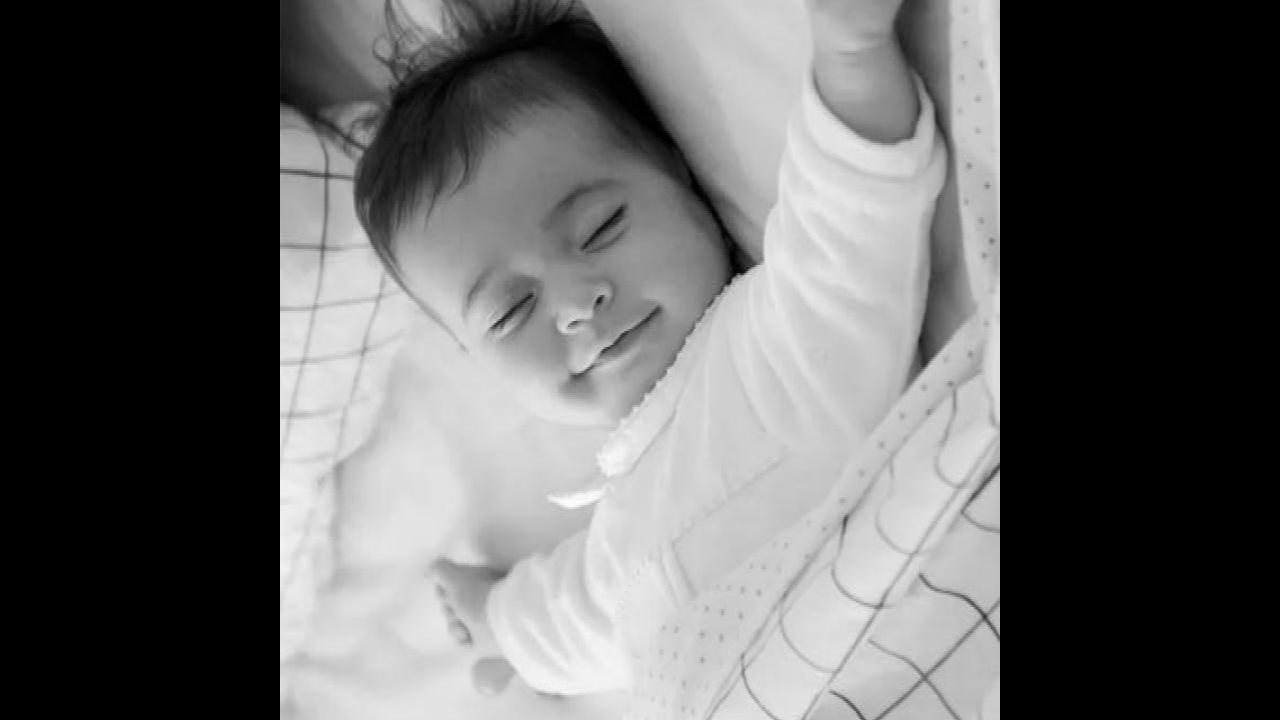hand: (423, 559, 491, 645), (791, 0, 912, 46)
